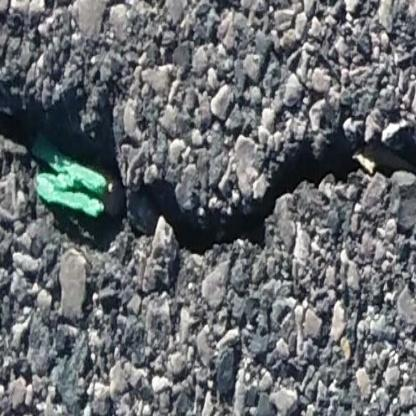Cracks: (0, 59, 416, 265)
